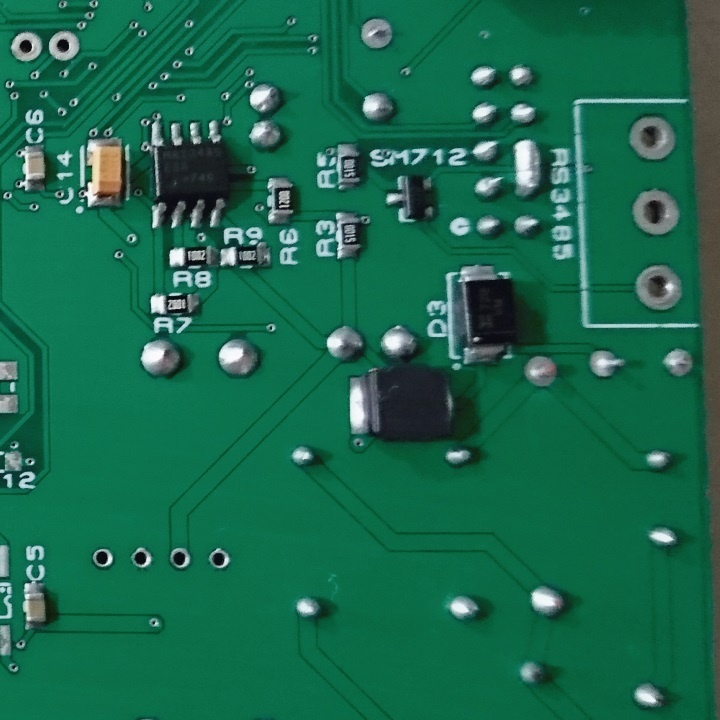F: (632, 260, 687, 314), (625, 112, 681, 163), (630, 185, 681, 238), (520, 350, 562, 393), (585, 343, 629, 381), (357, 14, 396, 55), (8, 29, 46, 64), (660, 343, 696, 379), (47, 29, 82, 65), (127, 544, 156, 573), (87, 544, 116, 572), (166, 545, 195, 572), (206, 547, 233, 571)
P: (511, 136, 545, 202)
